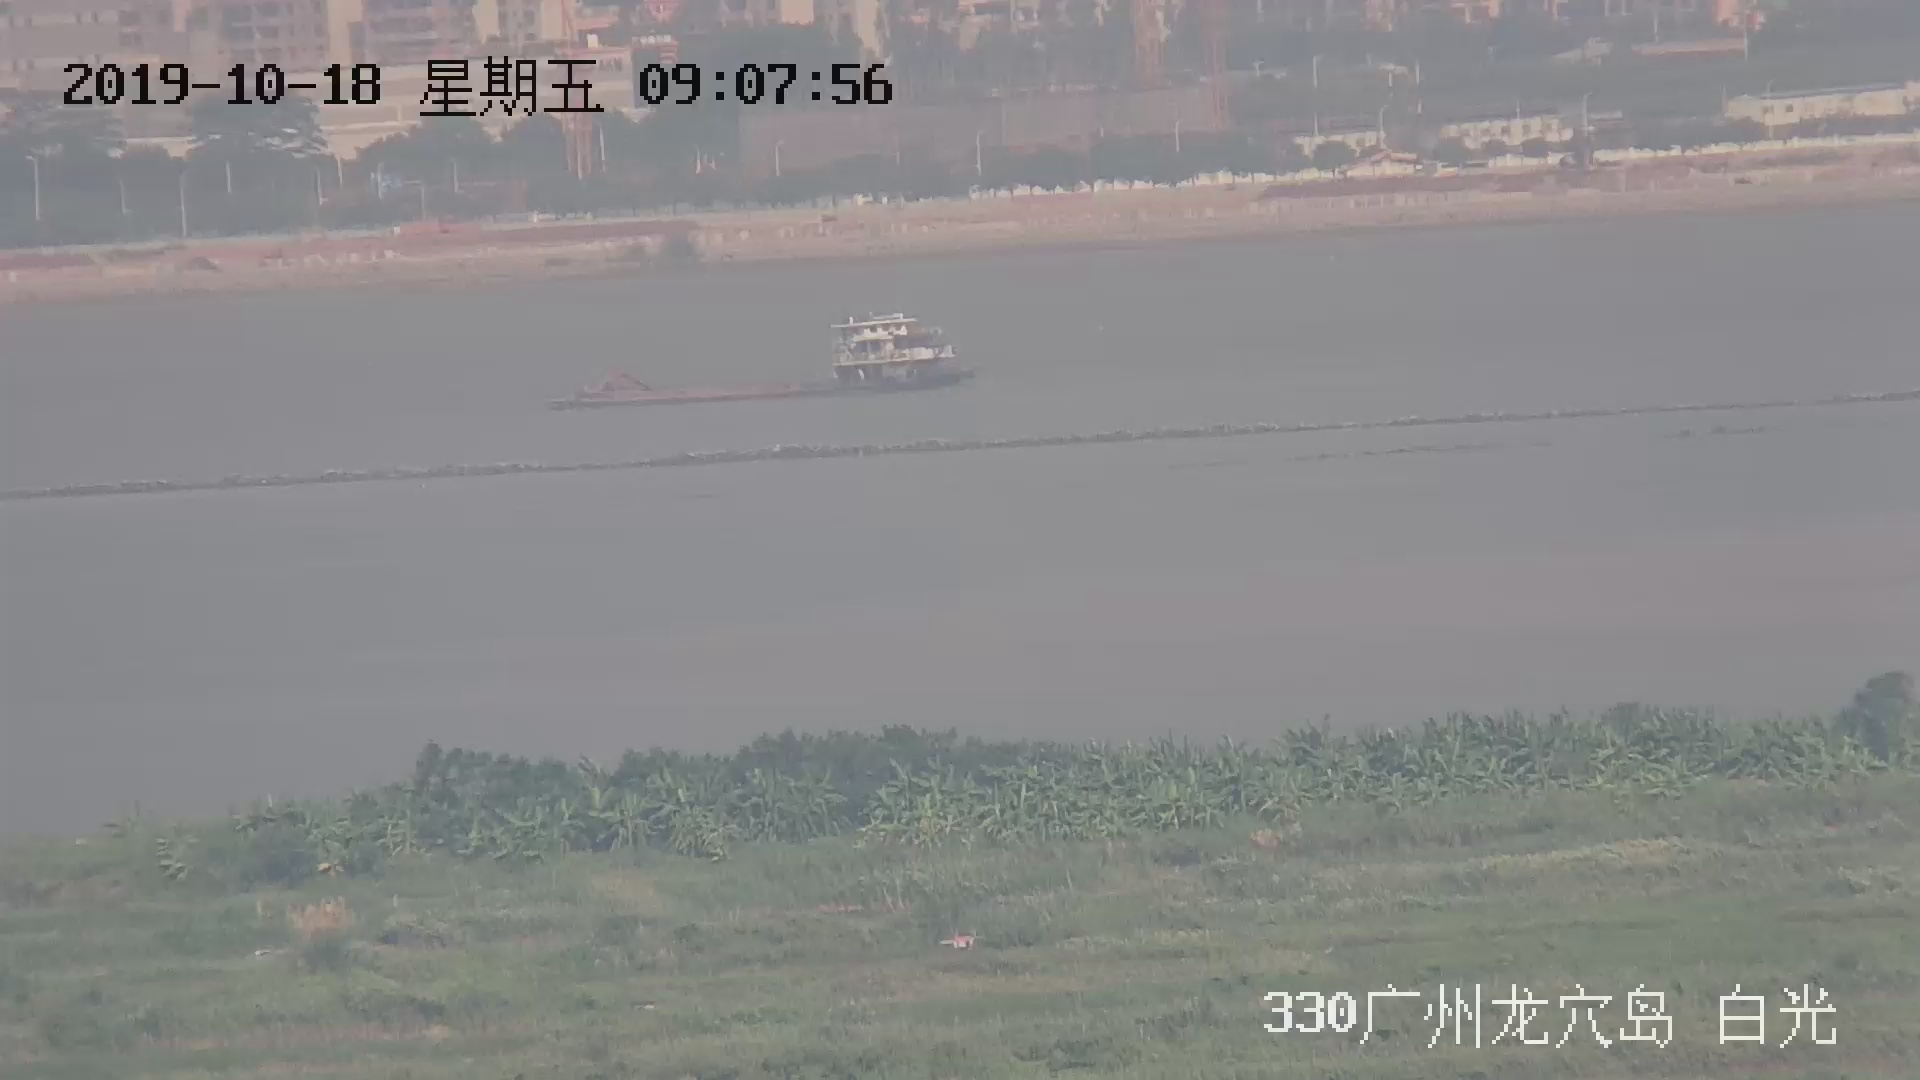ship: (553, 306, 973, 407)
